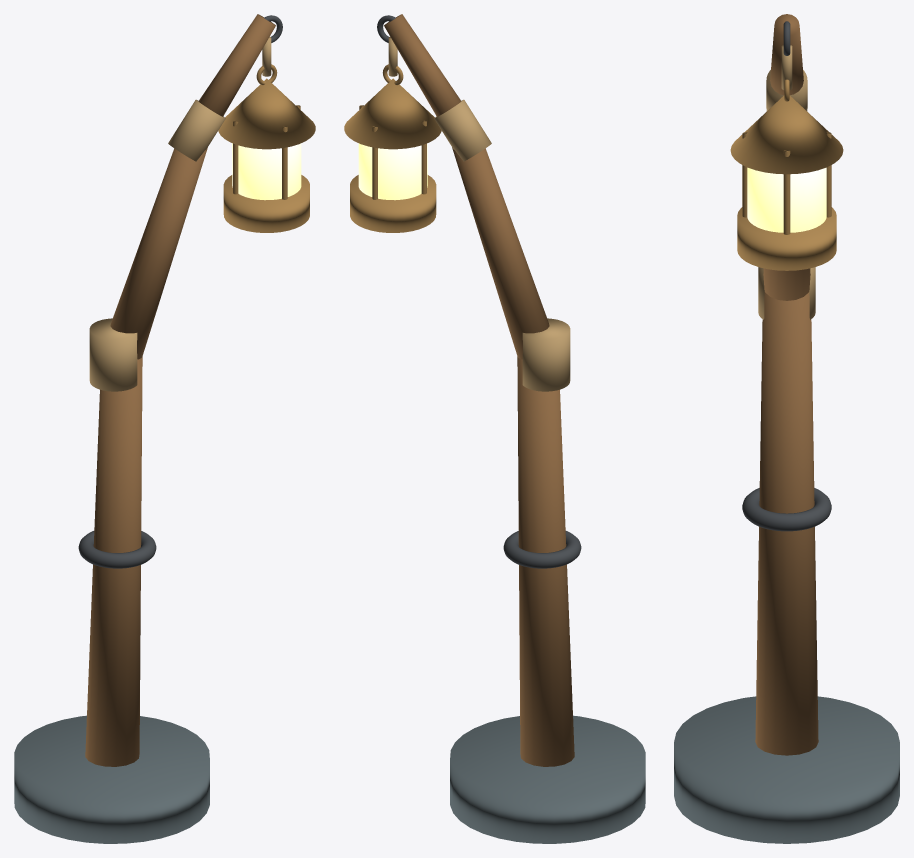
Rendered from 3D模型 props_lantern_post.glb.
The picture shows the model from 3 angles, left to right: view 1: azimuth 30°, elevation 25°; view 2: azimuth 150°, elevation 25°; view 3: azimuth 270°, elevation 25°; orthographic projection. The views are drawn at different scales.
Parts seen in each view (by area): view 1: part_base, part_pole_lo, part_pole_mid, part_lantern_cap, part_lantern_dish, part_wrap_lo, part_lantern_glass, part_pole_tip, part_wrap_mid, part_band; view 2: part_base, part_pole_lo, part_pole_mid, part_lantern_cap, part_lantern_dish, part_wrap_lo, part_lantern_glass, part_pole_tip, part_wrap_mid, part_band; view 3: part_base, part_pole_lo, part_lantern_cap, part_lantern_glass, part_lantern_dish, part_band, part_pole_tip, part_pole_mid, part_wrap_lo, part_wrap_mid, part_rib_0.
Boxes of the visible parts, x1,y1,x2,y2 form: part_base: (14,715,209,843); part_pole_lo: (85,356,142,766); part_pole_mid: (110,147,207,359); part_lantern_cap: (218,78,315,149); part_lantern_dish: (223,175,309,232); part_wrap_lo: (89,318,137,391); part_lantern_glass: (232,143,301,200); part_pole_tip: (198,14,275,116); part_wrap_mid: (168,99,225,161); part_band: (78,531,156,568); part_base: (450,715,645,843); part_pole_lo: (517,356,574,766); part_pole_mid: (452,147,549,359); part_lantern_cap: (344,78,441,149); part_lantern_dish: (350,175,436,232); part_wrap_lo: (522,318,570,391); part_lantern_glass: (358,143,427,200); part_pole_tip: (384,14,461,116); part_wrap_mid: (434,99,491,161); part_band: (503,531,581,568); part_base: (674,696,899,843); part_pole_lo: (755,292,818,755); part_lantern_cap: (730,95,843,174); part_lantern_glass: (747,167,826,232); part_lantern_dish: (737,207,836,270); part_band: (742,488,831,531); part_pole_tip: (770,14,803,94); part_pole_mid: (763,268,810,300); part_wrap_lo: (758,267,815,319); part_wrap_mid: (766,70,807,110); part_rib_0: (783,150,790,234).
Bounding box in the file's own units: 0.565 × 1.44 × 0.34.
